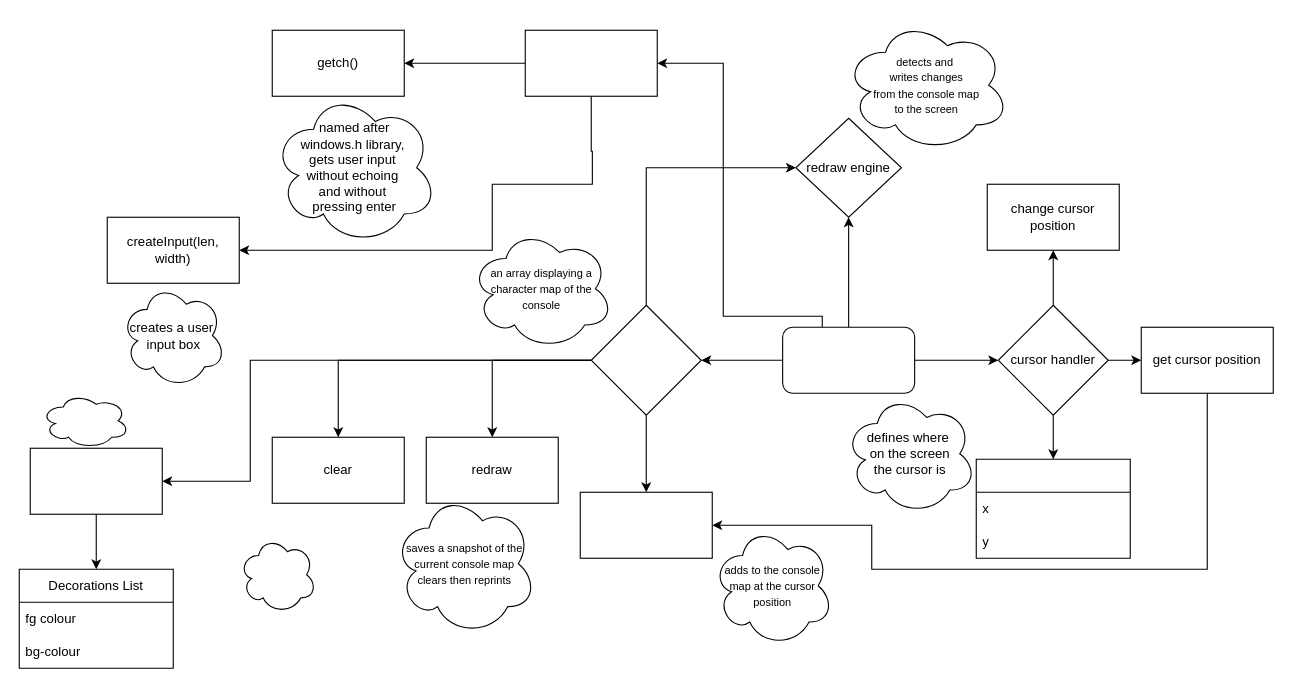
Some shapes in this 1293 by 688 pixel diagram are drawn without their labels. The box of each missing label's shape, as (x1, y1, x2, y2) in pixels:
apollo: (782, 326, 915, 393)
clears the terminal: (238, 535, 316, 613)
console map: (590, 304, 701, 415)
cursor struct: (975, 458, 1130, 558)
customisation and looks: (40, 392, 129, 448)
input handler: (524, 29, 657, 96)
print: (579, 491, 712, 558)
setDecorations: (29, 447, 162, 514)
